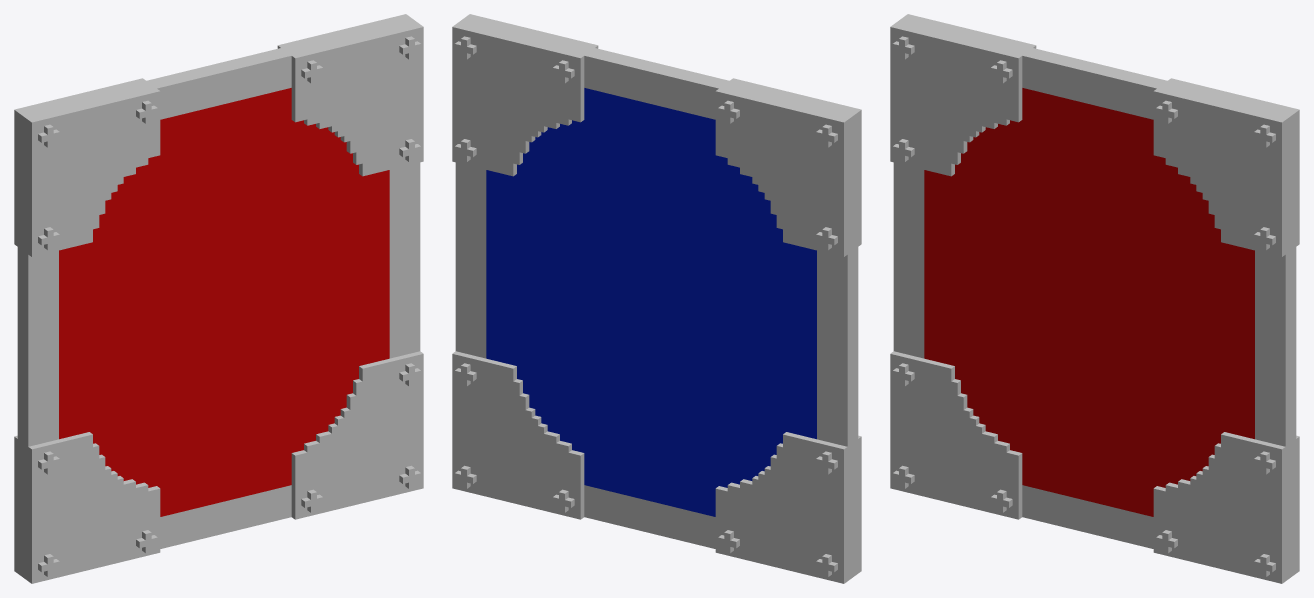
File: dorws01_1.fbx
3 renders of one model, left to right at view 1: azimuth 30°, elevation 25°; view 2: azimuth 150°, elevation 25°; view 3: azimuth 330°, elevation 25°, orthographic.
Parts seen in each view (by area): view 1: Default (×2); view 2: Default (×2); view 3: Default (×2).
Boxes of the visible parts, x1,y1,x2,y2 form: Default (×2): [14, 14, 423, 583]; Default (×2): [452, 14, 861, 583]; Default (×2): [890, 14, 1299, 583].
Size of the model in its own units: 6.4 by 7.2 by 0.7.
